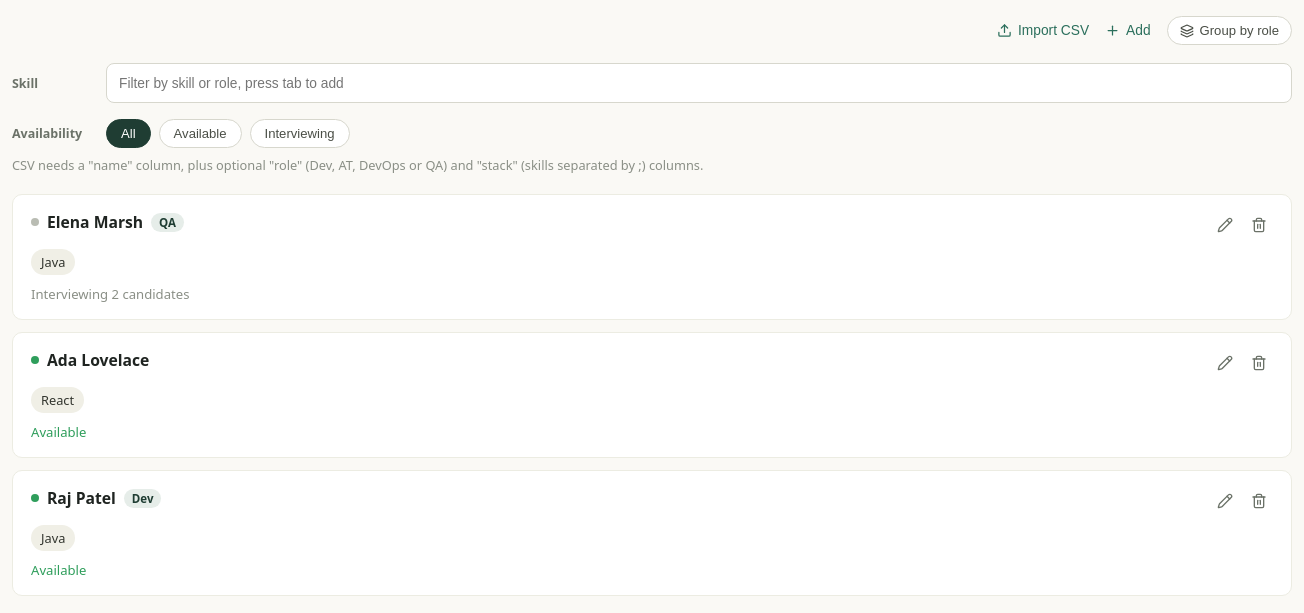
Test: InterviewersTab availability filter › filters to available or interviewing interviewers
Click the button "Interviewing" at [300, 134], box [250,119,350,148]
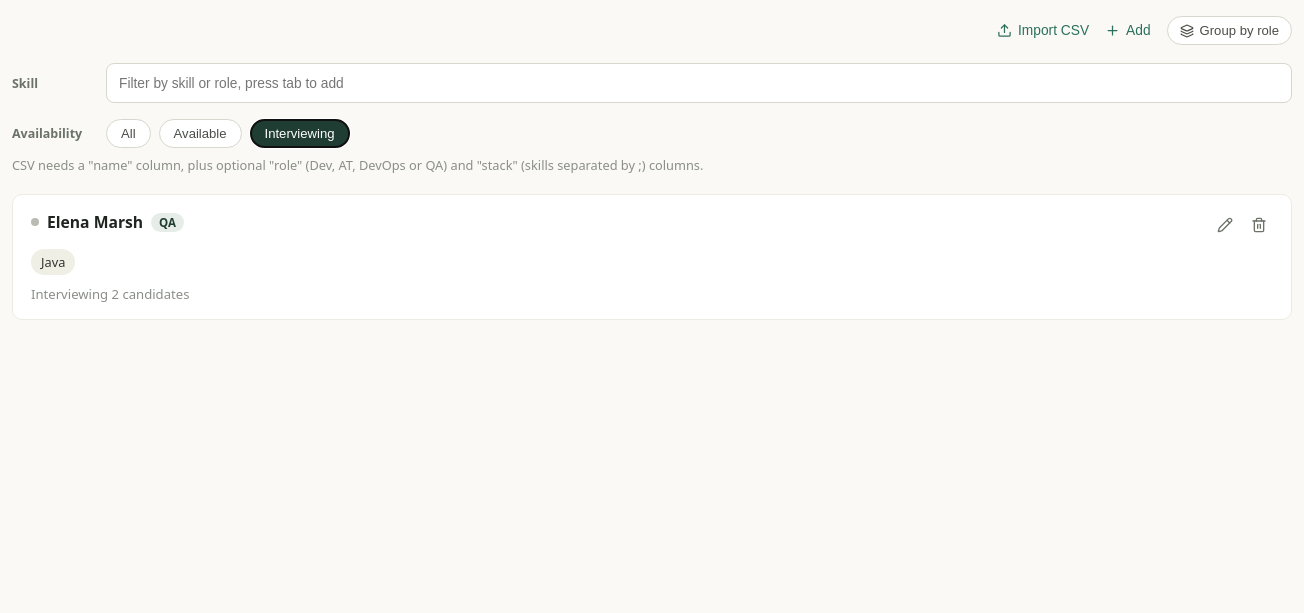
Expected: the heading "Elena Marsh" is shown, [47,211,143,233]
Result: the heading "Raj Patel" is gone
Click the button "Available" at [200, 134], box [159,119,242,148]
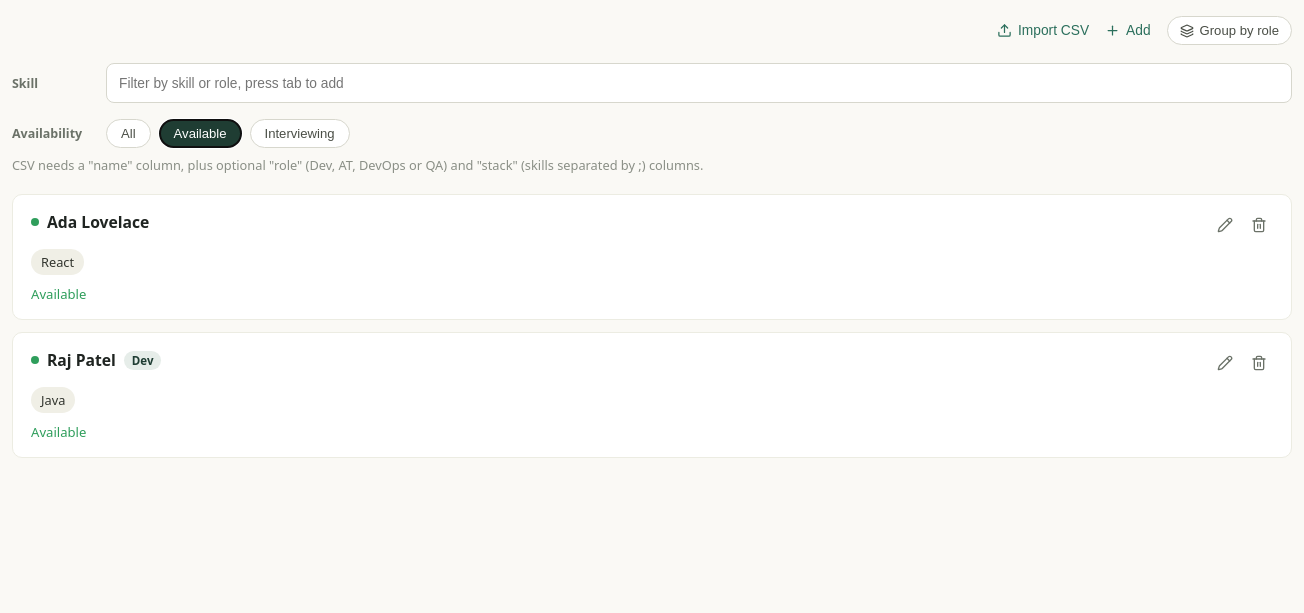
Result: the heading "Elena Marsh" is gone
Result: the heading "Raj Patel" is shown at [47,349,116,371]
Result: the heading "Ada Lovelace" is shown at [47,211,149,233]
